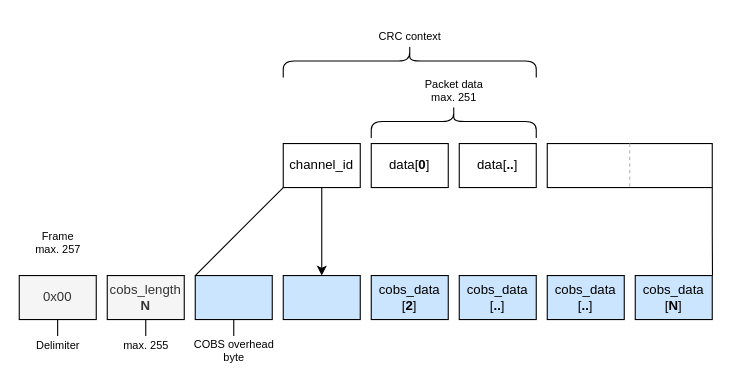
Some shapes in this 734 by 391 pixel diagram are drawn without their labels. The box of each missing label's shape, as (x1, y1, x2, y2) in pixels:
cobs_data [ 0 ]: (194, 274, 272, 320)
cobs_data [ 1 ]: (282, 274, 360, 320)
CRC16: (546, 142, 712, 188)
